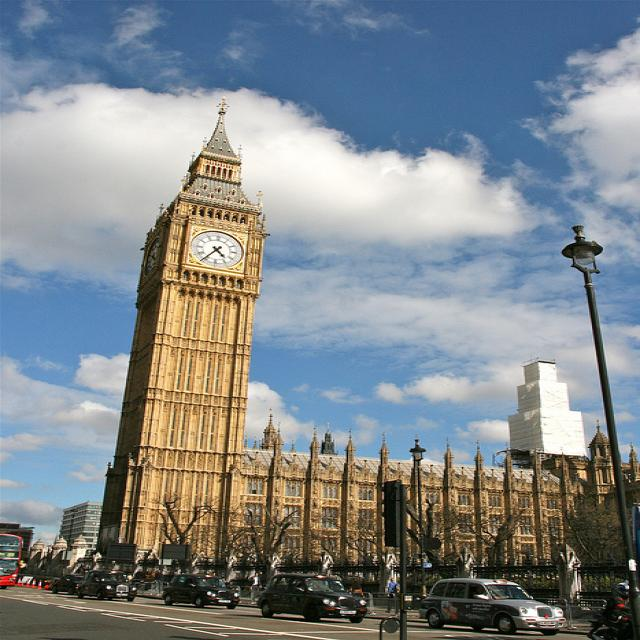Vehicle: (419, 577, 568, 636), (257, 574, 368, 623), (161, 574, 240, 610), (76, 569, 138, 602), (0, 534, 23, 590), (49, 579, 81, 595)
